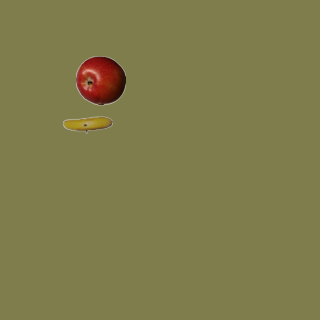Apple Braeburn: (75, 55, 125, 105)
Banana: (62, 99, 112, 149)
